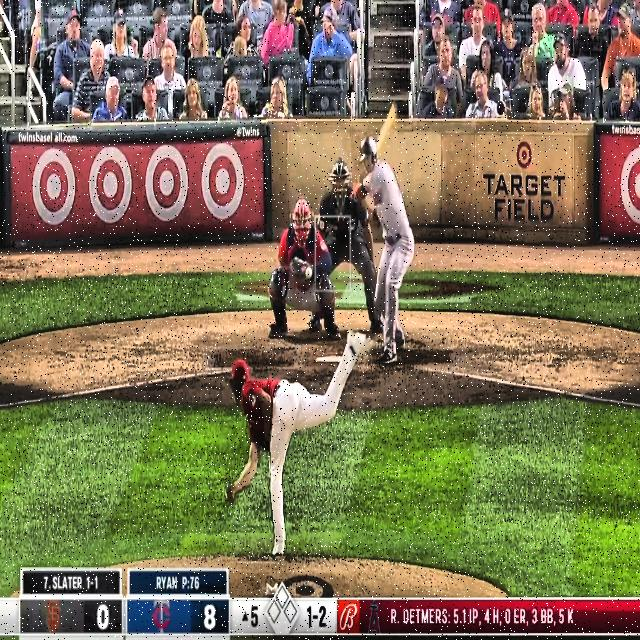baseball: (304, 267, 312, 279)
